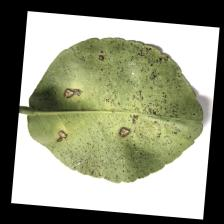canker: (63, 70, 179, 148)
